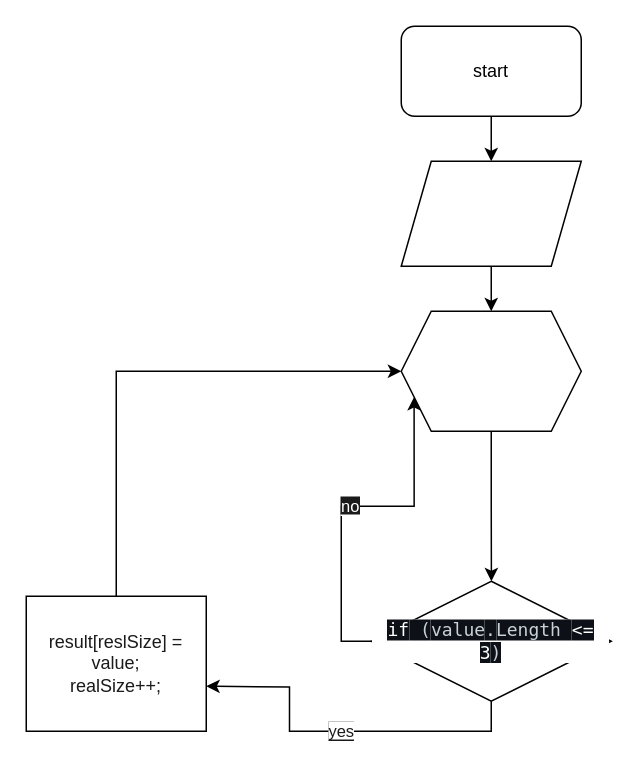
This 638x770 diagram has some shape labels left out. Each missing label, with the box of its shape:
string [] array ;: (400, 310, 581, 431)
string[] array string line var realSize = 0: (400, 160, 581, 266)
